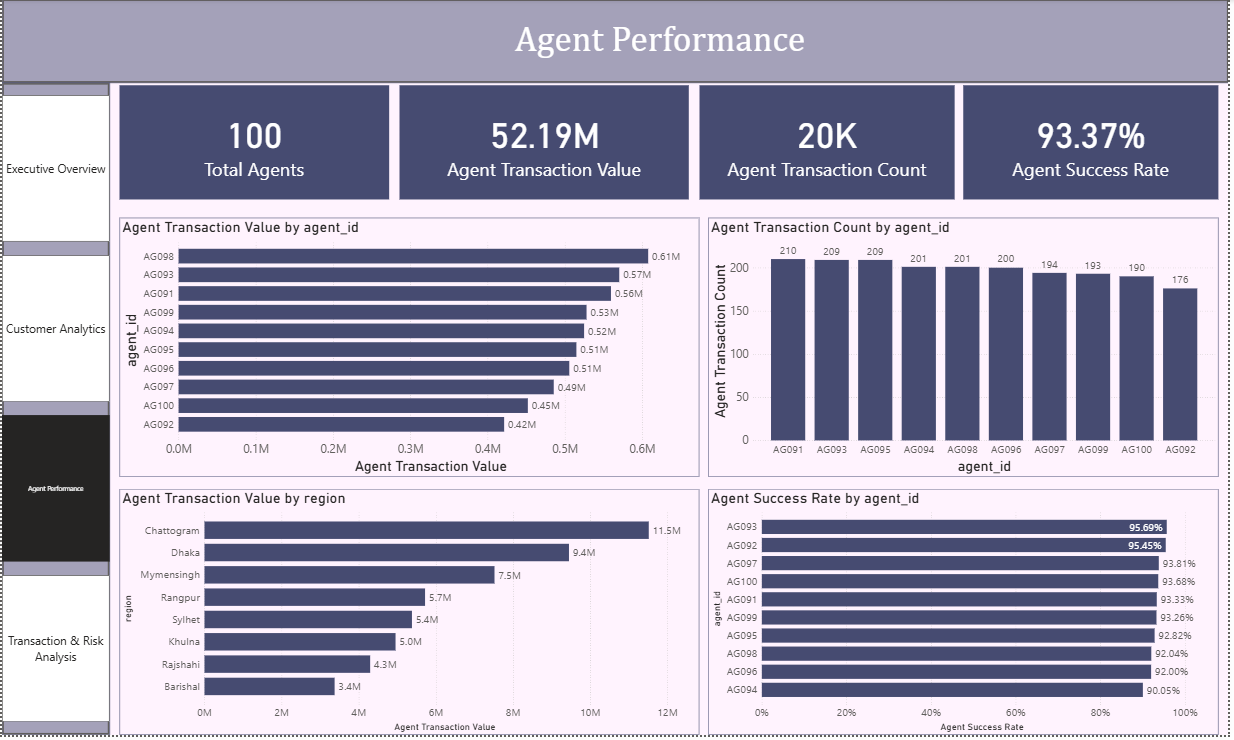

The dashboard page shown, as its layout file describes it:
{"tool":"powerbi","page":{"name":"Agent Performance","canvas":[2500,1500],"ordinal":2},"visuals":[{"type":"actionButton","box":[0,0,2500.5,171.5],"z":0},{"type":"actionButton","box":[0,171.5,219.8,1329.3],"z":1000},{"type":"textbox","box":[670,37.5,1342.7,96.5],"z":2000},{"type":"card","fields":{"Values":["Measure.Total Agents"]},"box":[238.5,176.9,549.4,233.2],"z":3000},{"type":"card","fields":{"Values":["Measure.Agent Transaction Count"]},"box":[1420.5,176.9,519.9,233.2],"z":4000},{"type":"card","fields":{"Values":["Measure.Agent Transaction Value"]},"box":[809.4,176.9,589.6,233.2],"z":5000},{"type":"barChart","fields":{"Category":["public agents.agent_id"],"Y":["Measure.Agent Transaction Value"]},"box":[238.5,444.9,1181.9,528],"z":8000},{"type":"clusteredColumnChart","fields":{"Category":["public agents.agent_id"],"Y":["Measure.Agent Transaction Count"]},"box":[1439.2,444.9,1039.9,528],"z":9000},{"type":"barChart","fields":{"Category":["public agents.region"],"Y":["Measure.Agent Transaction Value"]},"box":[238.5,999.7,1181.9,501.2],"z":10000},{"type":"barChart","fields":{"Category":["public agents.agent_id"],"Y":["Measure.Agent Success Rate"]},"box":[1439.2,999.7,1039.9,501.2],"z":11000},{"type":"card","fields":{"Values":["Measure.Agent Success Rate"]},"box":[1959.2,176.9,519.9,233.2],"z":11001},{"type":"pageNavigator","box":[0,196.2,219.1,1278.9],"z":11002}]}

Visuals, with their boxes on the page's 2500x1500 design canvas (x1, y1, x2, y2). These are canvas units, not pixel positions in the 1234x740 screenshot, which may show the page scaled, cropped or inside an application window:
actionButton: region(0, 0, 2500, 172)
actionButton: region(0, 172, 220, 1501)
textbox: region(670, 38, 2013, 134)
card - Measure.Total Agents: region(238, 177, 788, 410)
card - Measure.Agent Transaction Count: region(1420, 177, 1940, 410)
card - Measure.Agent Transaction Value: region(809, 177, 1399, 410)
barChart - public agents.agent_id x Measure.Agent Transaction Value: region(238, 445, 1420, 973)
clusteredColumnChart - public agents.agent_id x Measure.Agent Transaction Count: region(1439, 445, 2479, 973)
barChart - public agents.region x Measure.Agent Transaction Value: region(238, 1000, 1420, 1501)
barChart - public agents.agent_id x Measure.Agent Success Rate: region(1439, 1000, 2479, 1501)
card - Measure.Agent Success Rate: region(1959, 177, 2479, 410)
pageNavigator: region(0, 196, 219, 1475)
